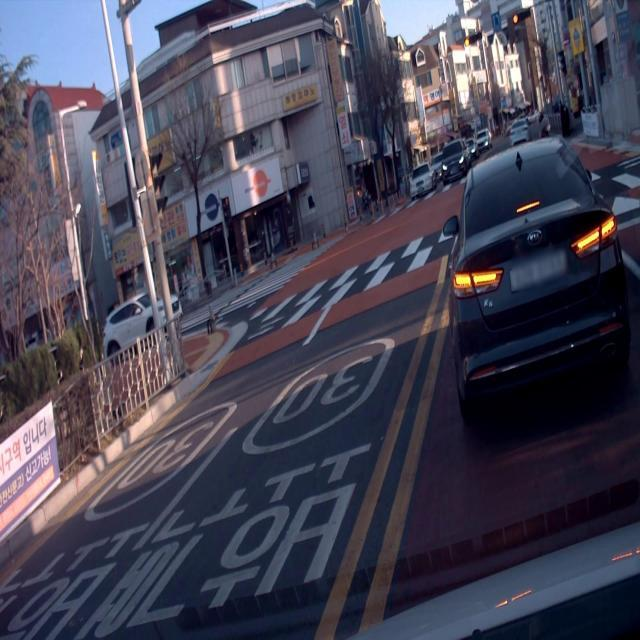crosswalk: (235, 157, 639, 347), (178, 230, 358, 335), (372, 134, 574, 225)
